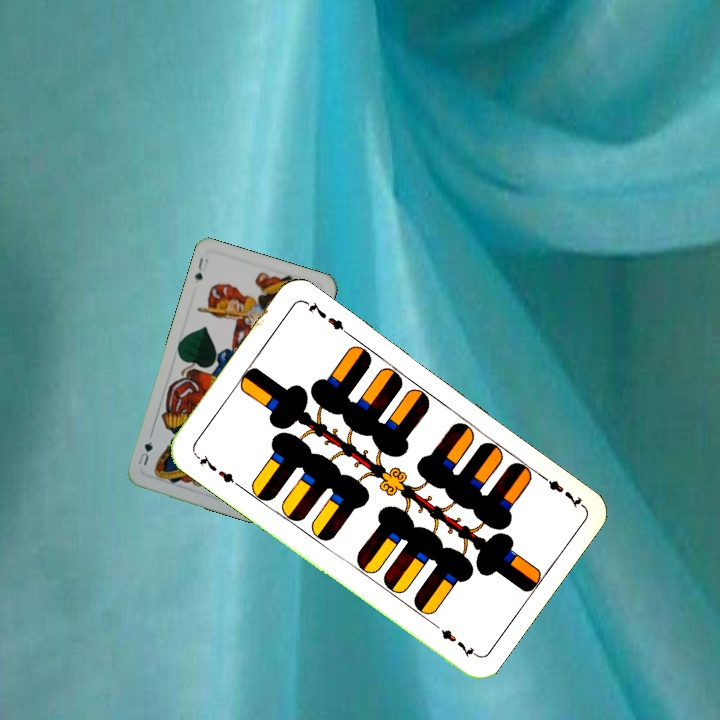E7: (534, 469, 585, 511), (191, 449, 242, 489)
GU: (190, 252, 211, 283)
